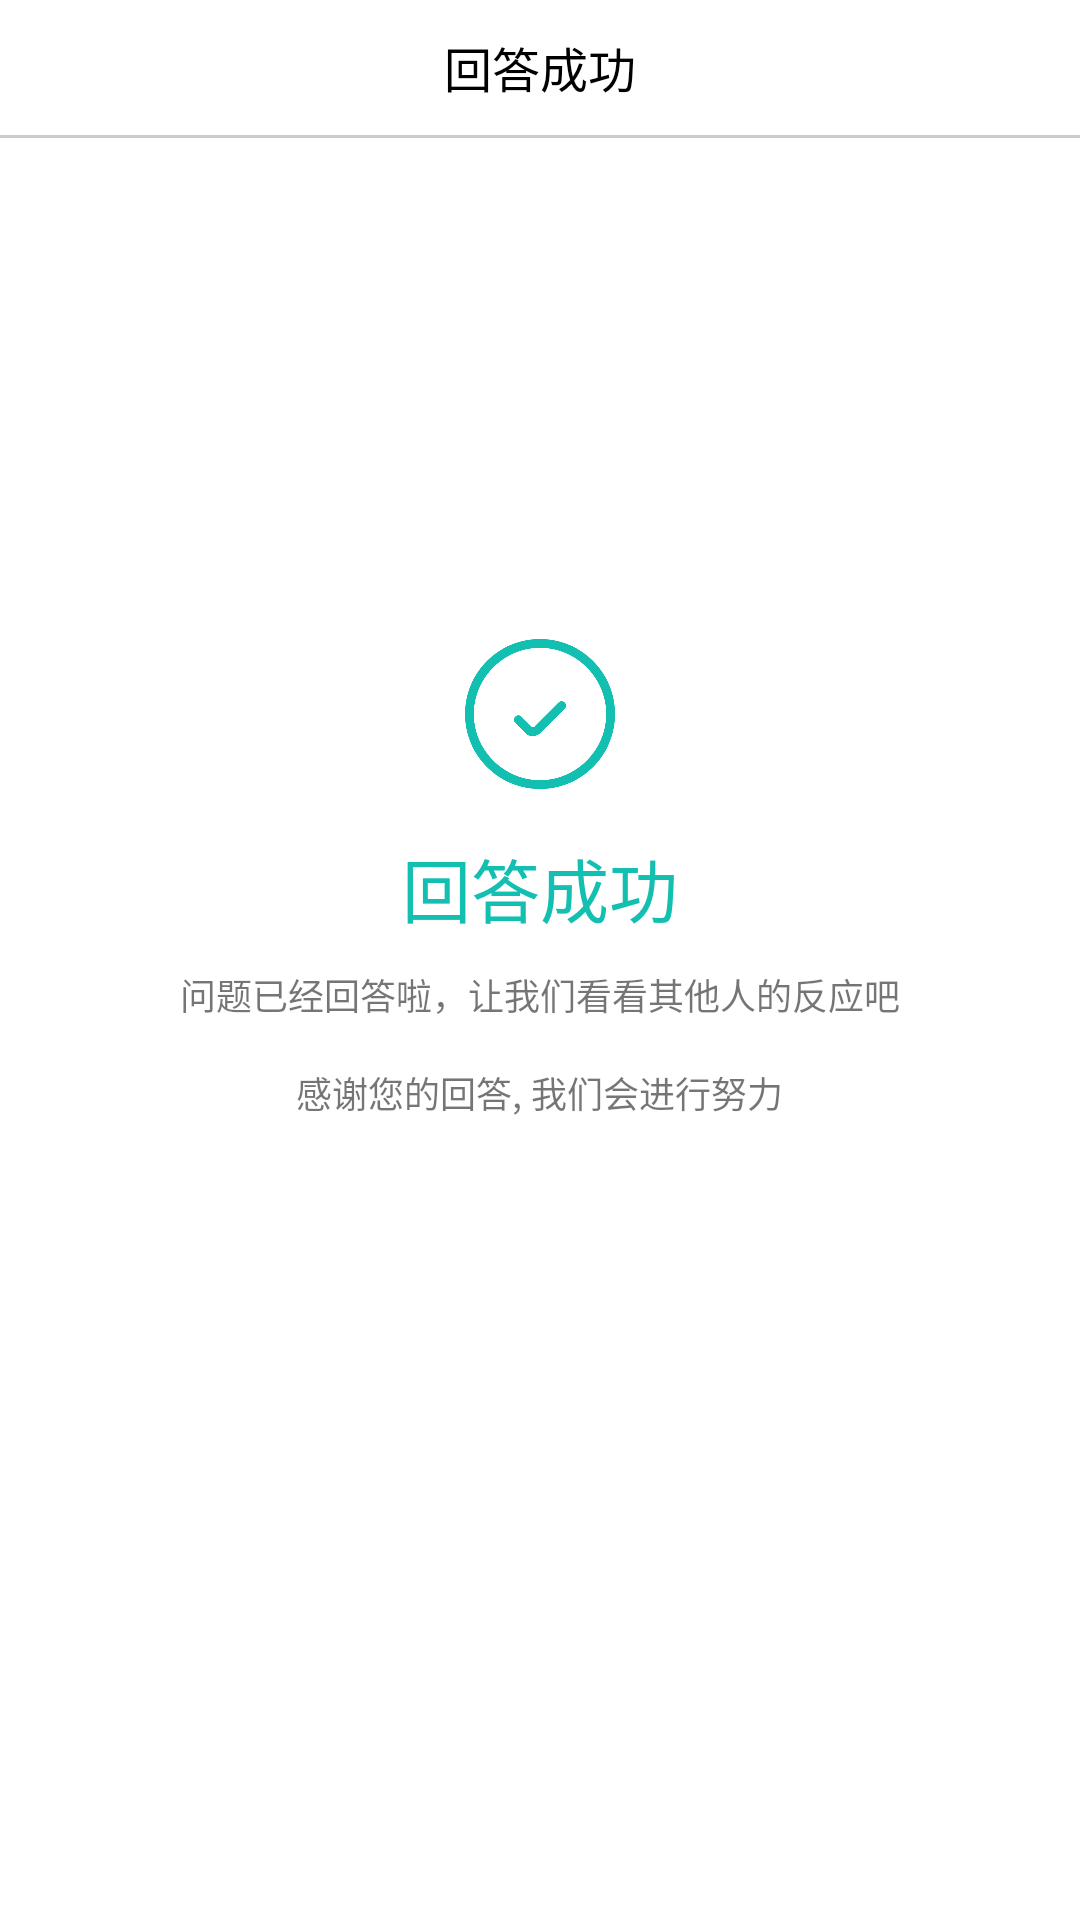

Where to tap for icons on this 1080w x 1920h app screen, as point (x, y):
tick circle: point (540, 714)
